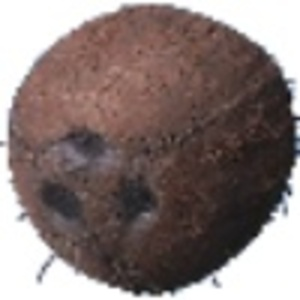coco: (1, 4, 300, 299)
